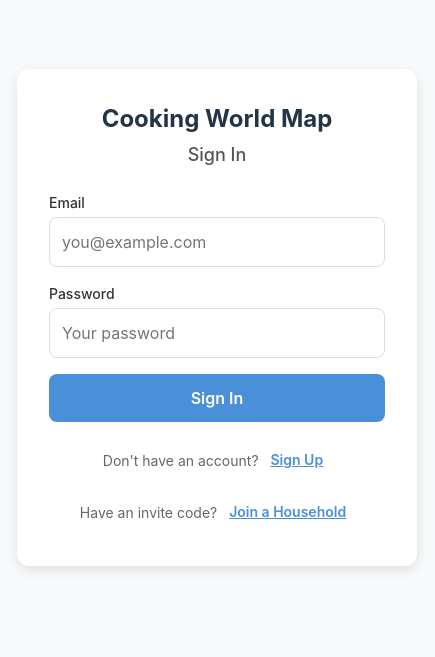
Test: AuthGate › Join Household flow (Req 8.4, 8.8) › shows error for invalid invite code (Req 8.4)
Expected: the field labelled "Email" is shown, [49, 216, 385, 266]
Click the button "Join a Household".
click(288, 512)  # box [221, 490, 354, 534]
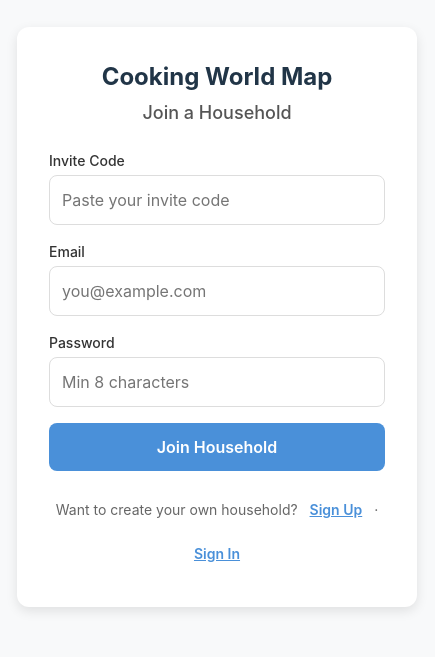
Type "invalid-code" into the field labelled "Invite Code".
click(217, 200); type("invalid-code")  # box [49, 175, 385, 225]
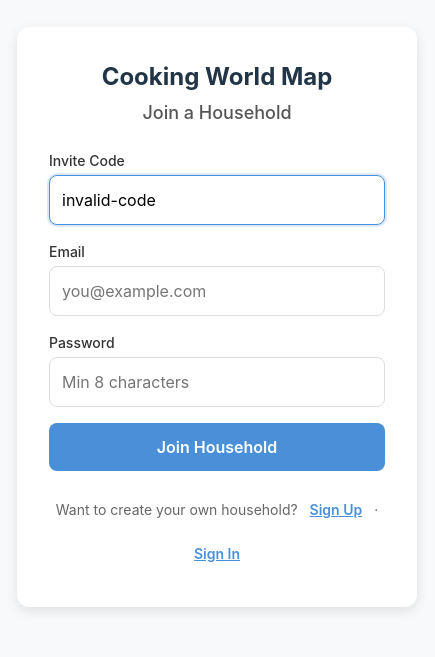
Type "partner@example.com" into the field labelled "Email".
click(217, 291); type("partner@example.com")  # box [49, 266, 385, 316]
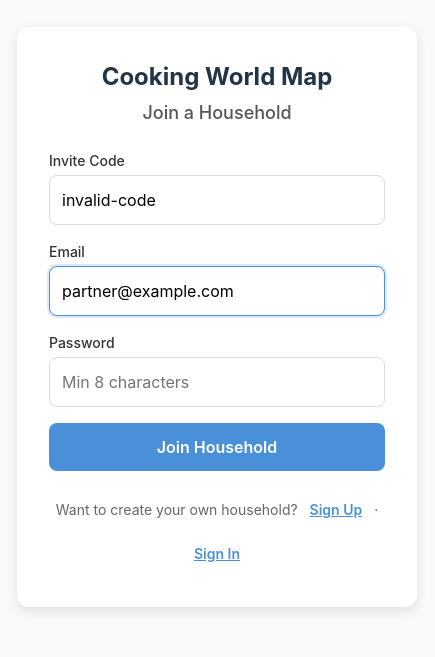
Type "password123" into the password field labelled "Password".
click(217, 382); type("password123")  # box [49, 357, 385, 407]
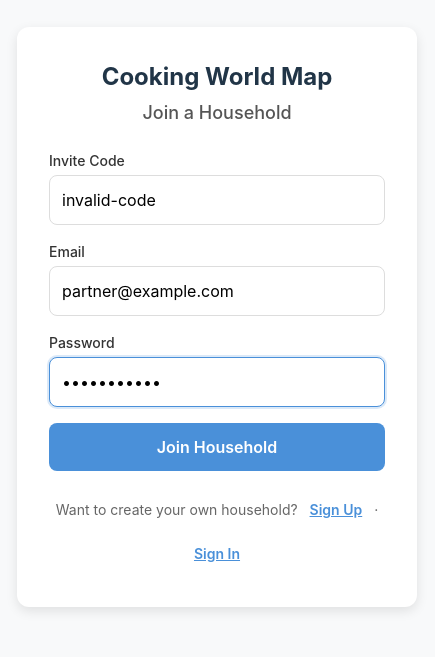
Click the button "Join Household".
click(217, 447)  # box [49, 423, 385, 471]
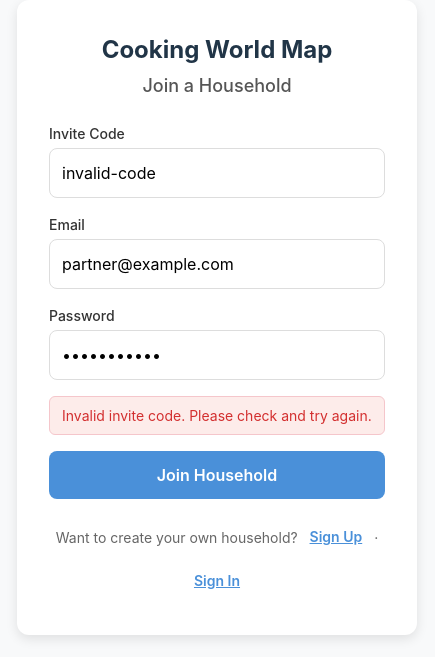
Result: the message shows "Invalid invite code" at [62, 406, 372, 424]
